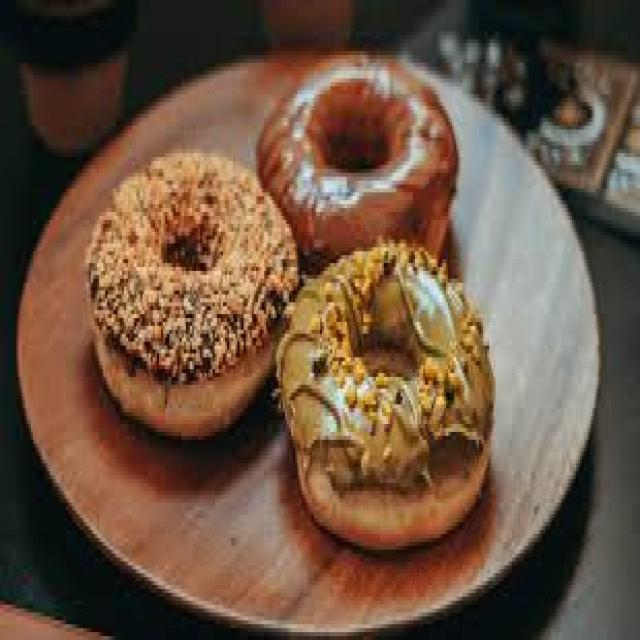donat: (275, 243, 495, 554), (91, 153, 299, 436)
